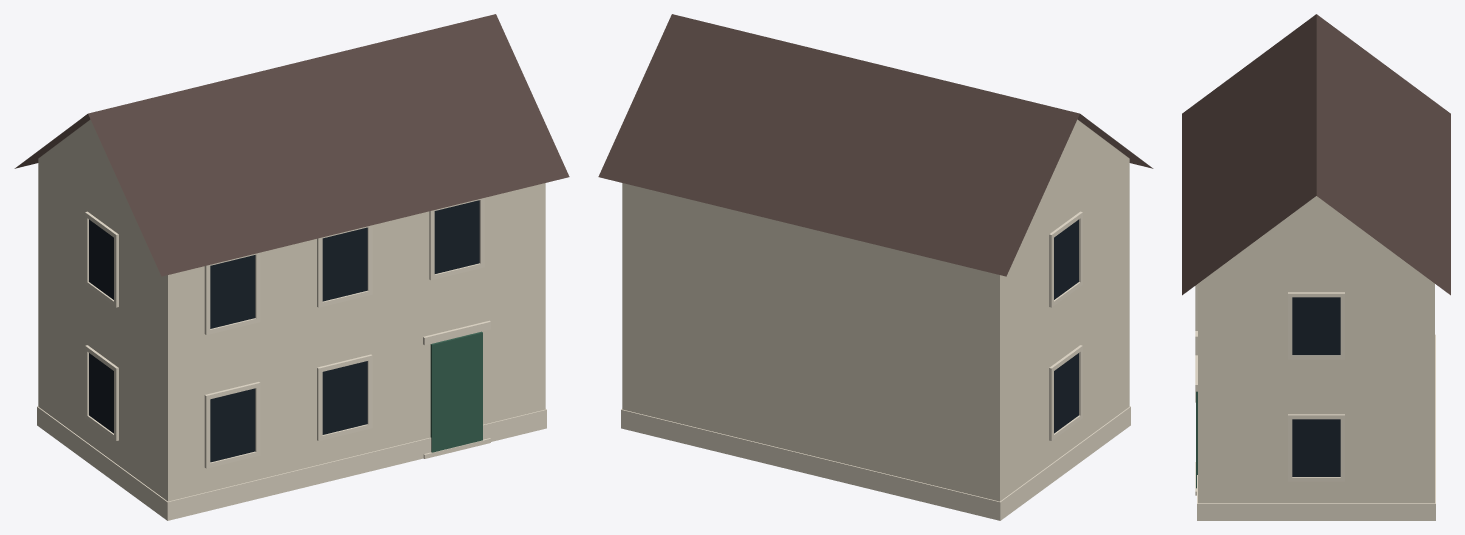
File: render-pitched.glb
3 renders of one model, left to right at view 1: azimuth 30°, elevation 25°; view 2: azimuth 150°, elevation 25°; view 3: azimuth 270°, elevation 25°, orthographic. The views are drawn at different scales.
Visible parts, largest first — view 1: Render, Roof, Trim, Window, Door; view 2: Render, Roof, Trim, Window; view 3: Render, Roof, Trim, Window.
Boxes of the visible parts, x1,y1,x2,y2 form: Render: (38, 119, 545, 501); Roof: (14, 14, 569, 276); Trim: (37, 198, 546, 520); Window: (89, 200, 479, 462); Door: (430, 331, 482, 452); Render: (622, 119, 1129, 501); Roof: (598, 14, 1153, 276); Trim: (621, 211, 1130, 520); Window: (1054, 219, 1078, 433); Render: (1198, 196, 1434, 503); Roof: (1182, 14, 1450, 295); Trim: (1195, 284, 1435, 520); Window: (1292, 297, 1340, 476).
Bounding box in the file's own units: 8 × 6.8 × 5.
